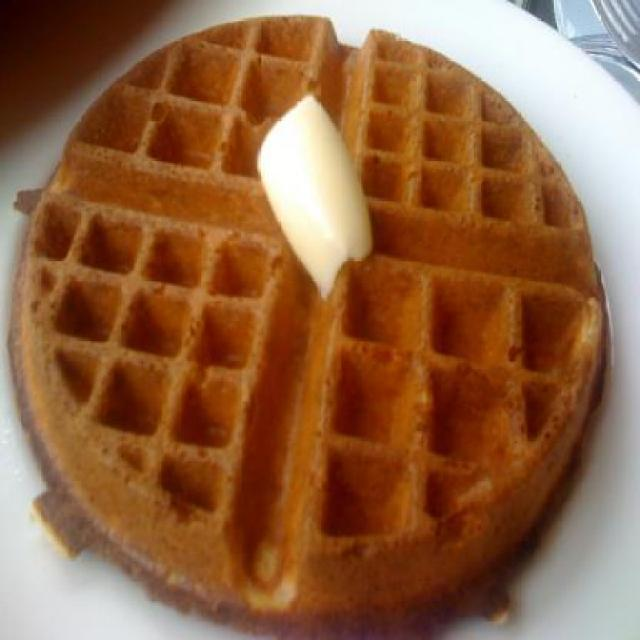Waffle: (6, 18, 608, 640)
